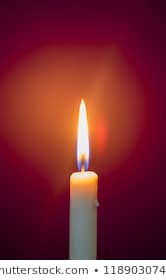Fire: (71, 97, 94, 177)
